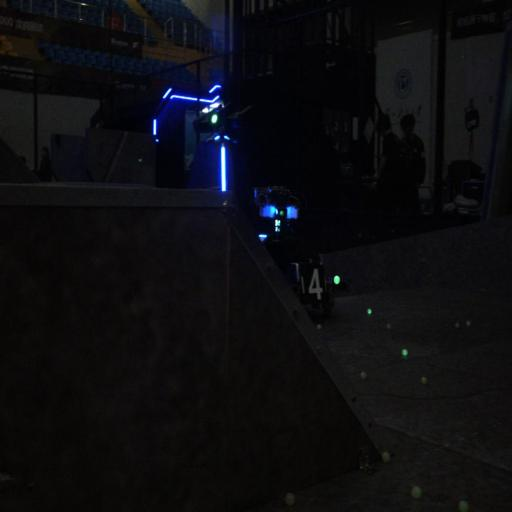target: (293, 254, 329, 309)
